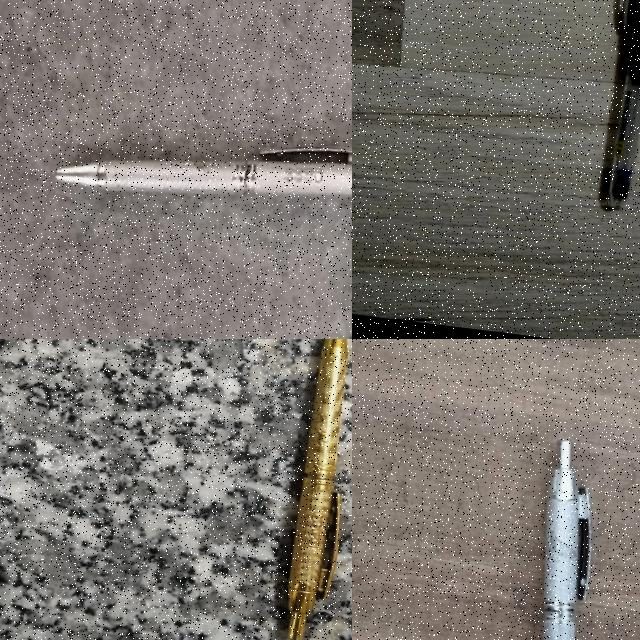signature pen: (287, 339, 347, 639), (55, 148, 351, 196), (542, 440, 590, 639), (607, 0, 639, 209)
